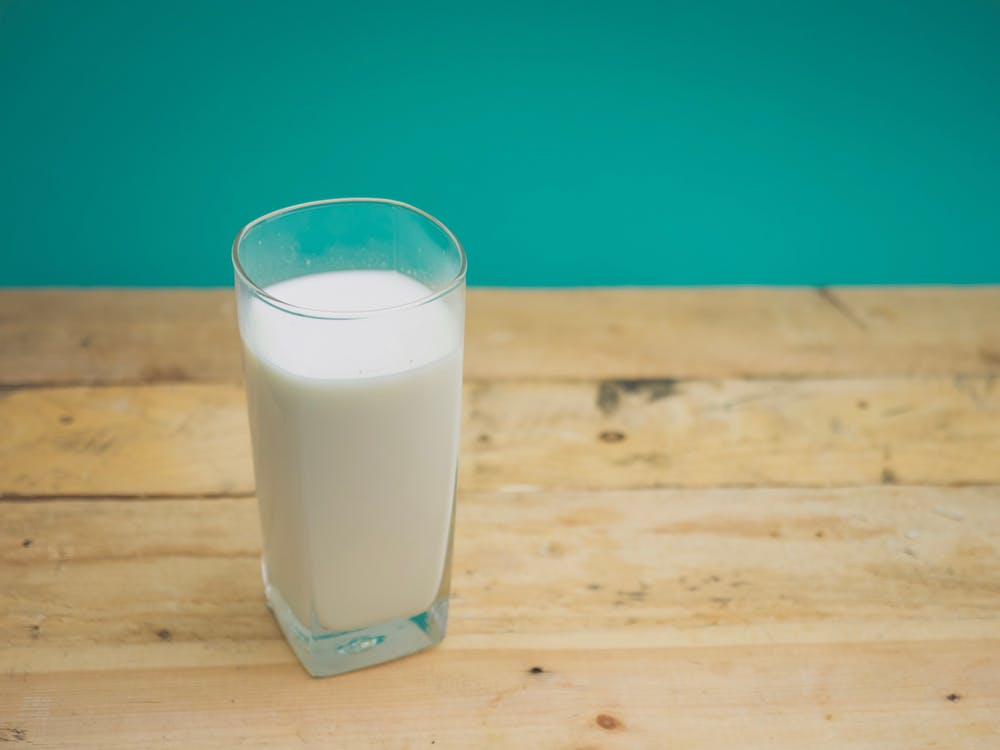glass of milk: (245, 215, 460, 670)
